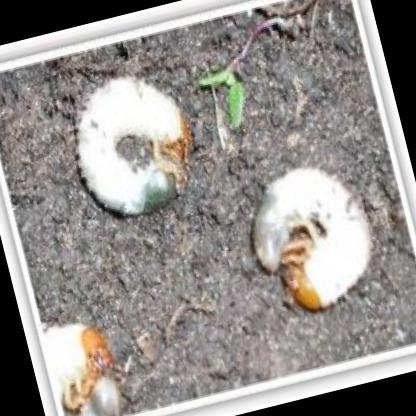root grubs: (251, 162, 371, 314), (78, 73, 192, 212)
